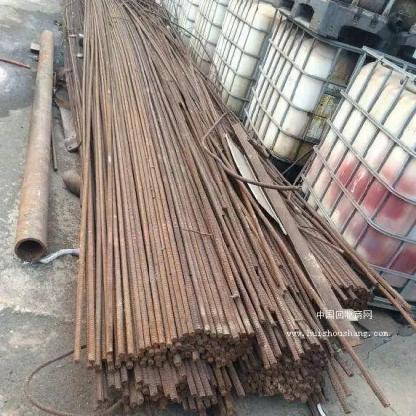rebar: (63, 0, 415, 415), (23, 342, 89, 415), (49, 120, 58, 169)
